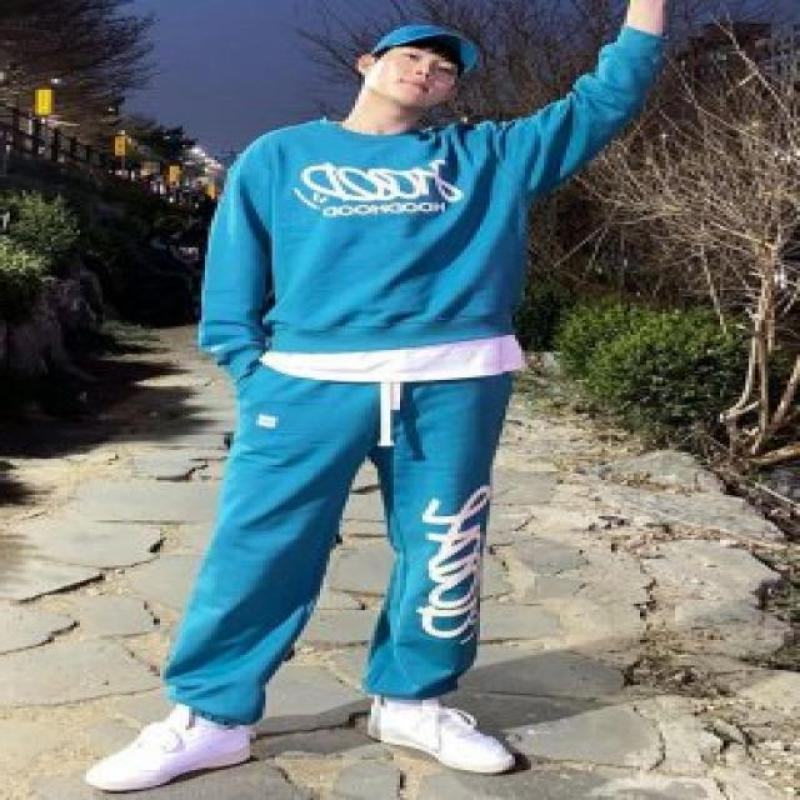sweater: (199, 31, 668, 377)
trousers: (162, 362, 521, 726)
